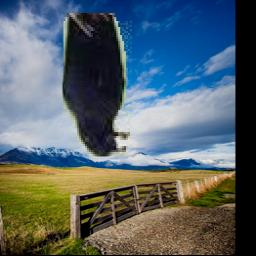Crow: (62, 13, 133, 157)
